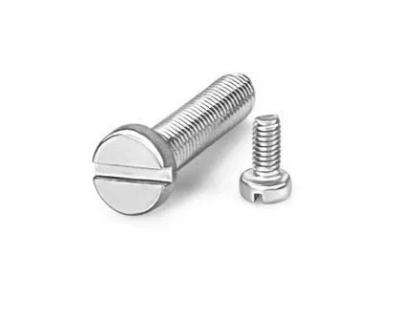slotted: (92, 119, 176, 218)
